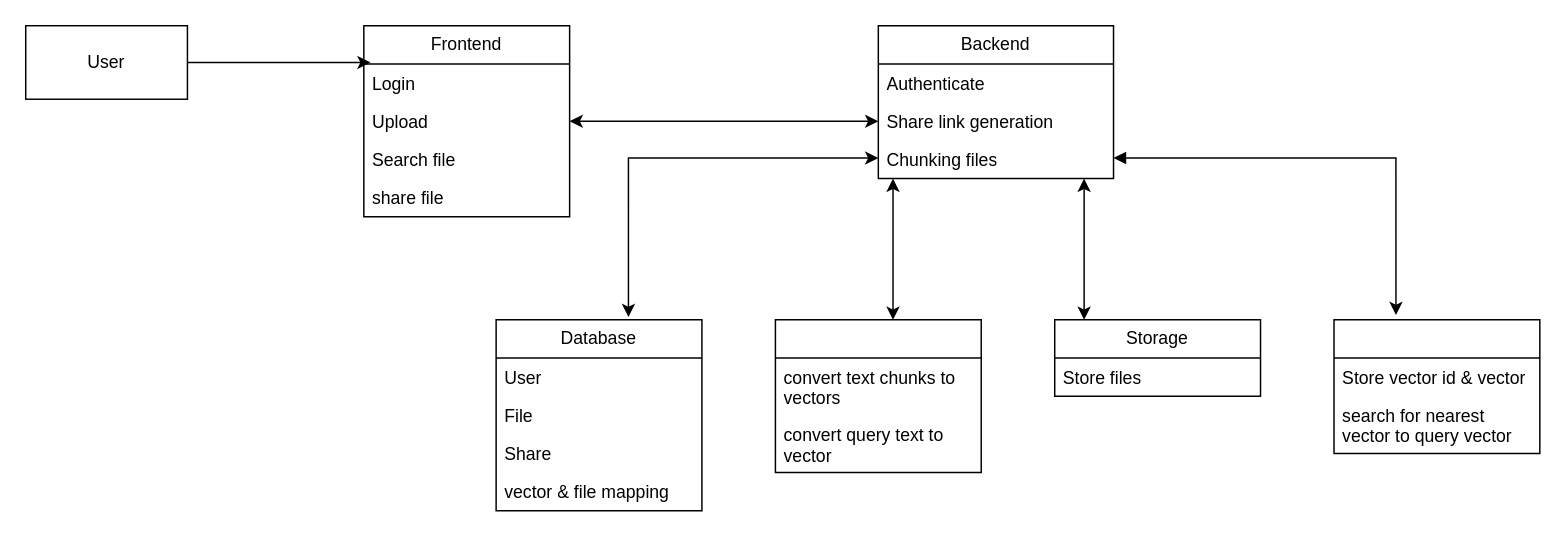
This 1566x541 diagram has some shape labels left out. The shapes that lost their labels are listed below. From the top down, each one's box as (x1, y1, x2, y2) in pixels, then its label:
(774, 318, 981, 473): Embedding model
(1333, 318, 1540, 453): FAISS
